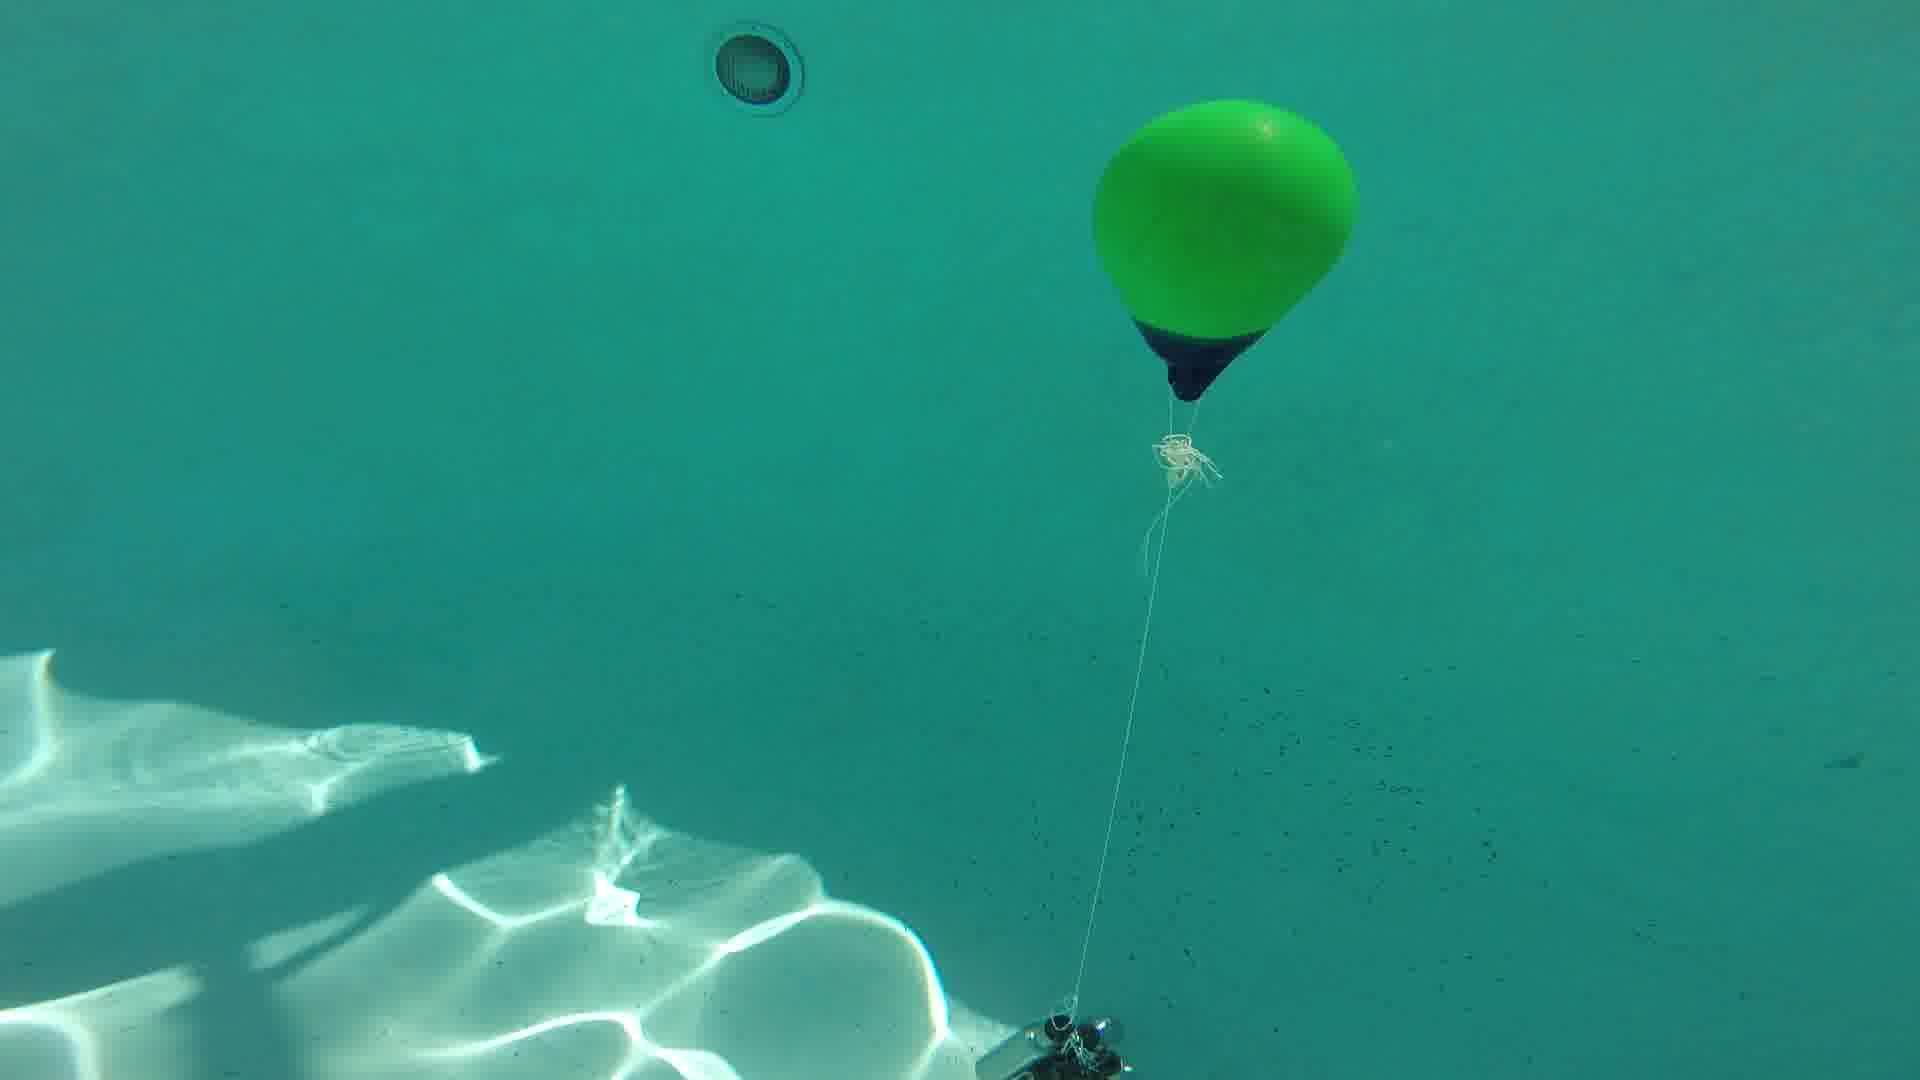yellow_buoy: (1089, 98, 1364, 407)
